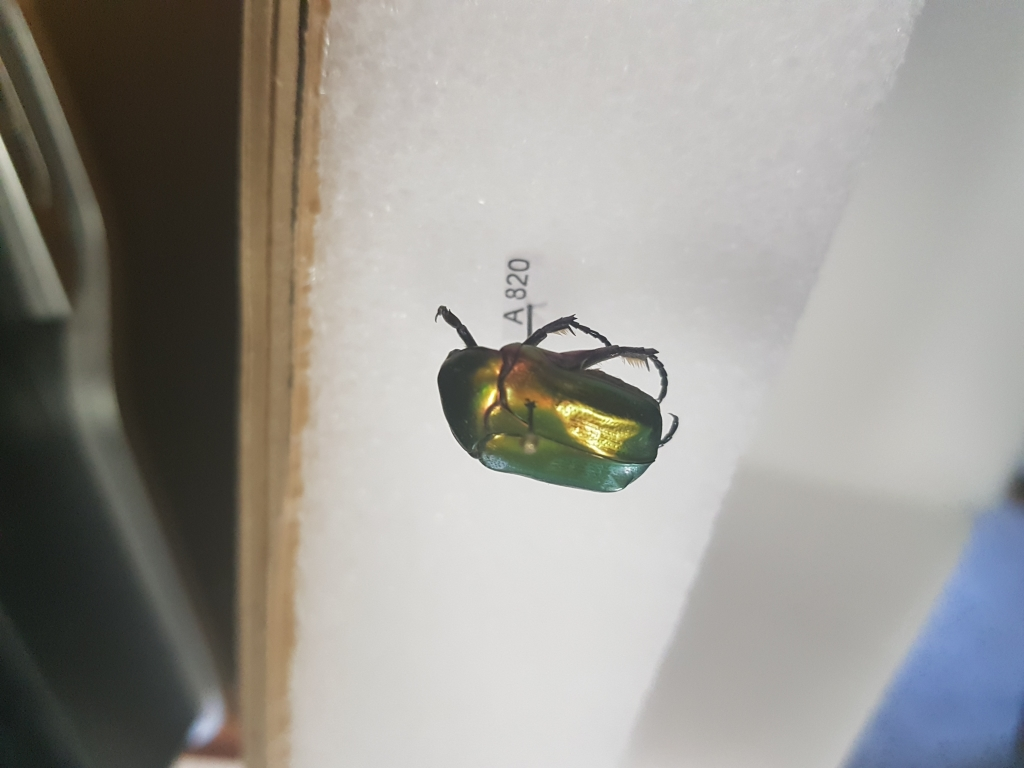Protaetia_cuprea_ignicollis: (387, 299, 716, 497)
